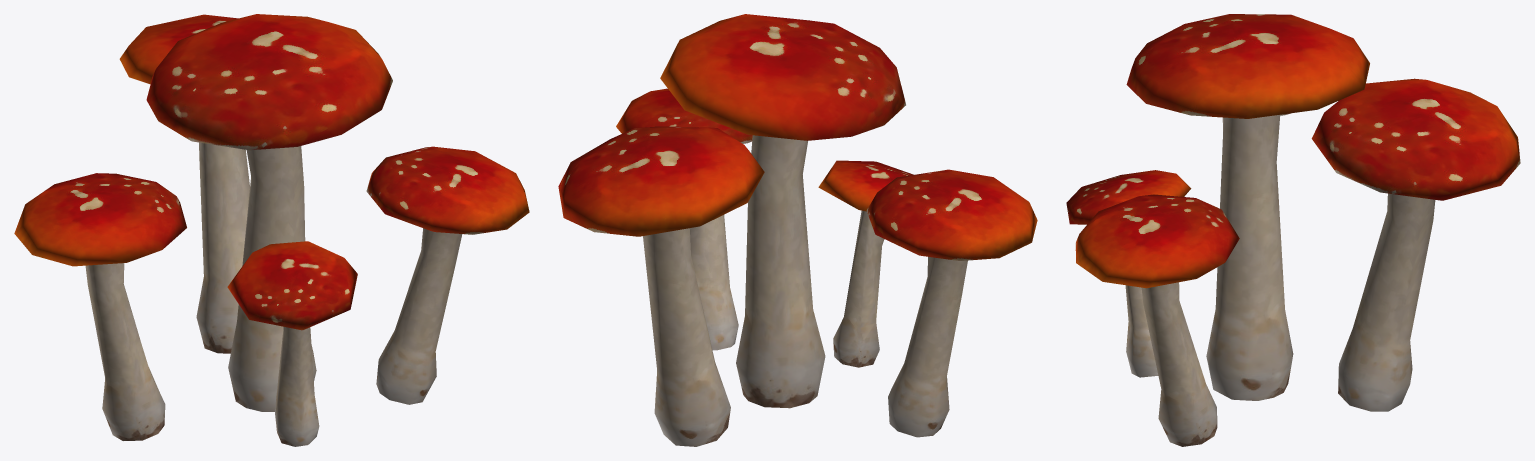
The model's file is SM_Mushrooms.glb.
3 renders of one model, left to right at view 1: azimuth 30°, elevation 25°; view 2: azimuth 150°, elevation 25°; view 3: azimuth 270°, elevation 25°, orthographic.
Parts seen in each view (by area): view 1: SM_Mushrooms_LOD0; view 2: SM_Mushrooms_LOD0; view 3: SM_Mushrooms_LOD0.
Boxes of the visible parts, bbox=[...] form: SM_Mushrooms_LOD0: bbox=[14, 14, 529, 446]; SM_Mushrooms_LOD0: bbox=[558, 14, 1037, 446]; SM_Mushrooms_LOD0: bbox=[1066, 14, 1520, 446].
Bounding box in the file's own units: 0.6755 × 0.5155 × 0.5966.
1 material, 1 textured.
